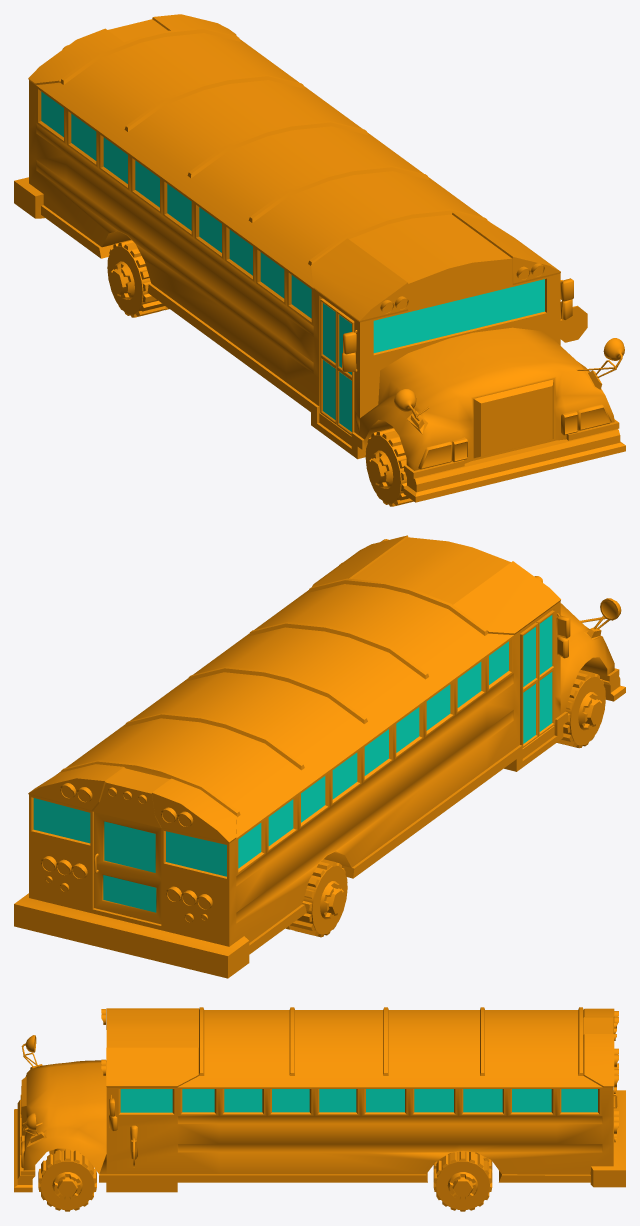
The model's file is bus_low.FBX.
3 renders of one model, top to bottom at view 1: azimuth 30°, elevation 25°; view 2: azimuth 150°, elevation 25°; view 3: azimuth 270°, elevation 25°, orthographic. The views are drawn at different scales.
Parts seen in each view (by area): view 1: Bus_low, Wheels_low, F_Door_low (×2), Mirrors_low; view 2: Bus_low, Hind_Door_low, Wheels_low, F_Door_low (×2), Reer_lights_low, Mirrors_low; view 3: Bus_low, Wheels_low, Mirrors_low, Reer_lights_low.
Boxes of the visible parts, x1,y1,x2,y2 form: Bus_low: (14, 14, 625, 502); Wheels_low: (107, 240, 413, 506); F_Door_low (×2): (320, 298, 354, 435); Mirrors_low: (342, 278, 624, 420); Bus_low: (14, 535, 625, 978); Hind_Door_low: (94, 812, 161, 924); Wheels_low: (285, 670, 605, 937); F_Door_low (×2): (520, 610, 554, 747); Reer_lights_low: (41, 539, 542, 910); Mirrors_low: (339, 562, 621, 658); Bus_low: (14, 1007, 625, 1192); Wheels_low: (38, 1148, 492, 1211); Mirrors_low: (21, 1035, 117, 1135); Reer_lights_low: (101, 1009, 618, 1133).
Size of the model in its own units: 39.33 by 28.9 by 106.
